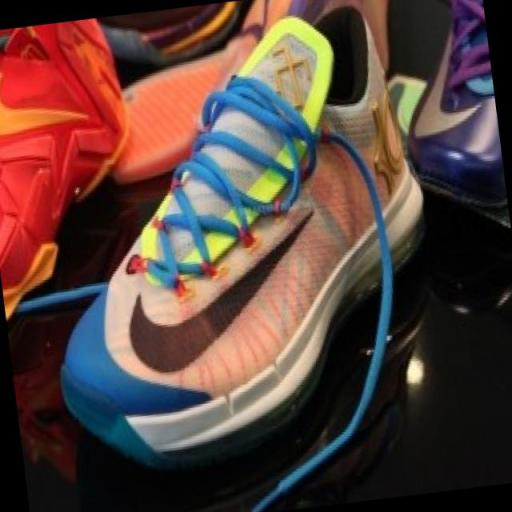Nike: (111, 205, 340, 384)
